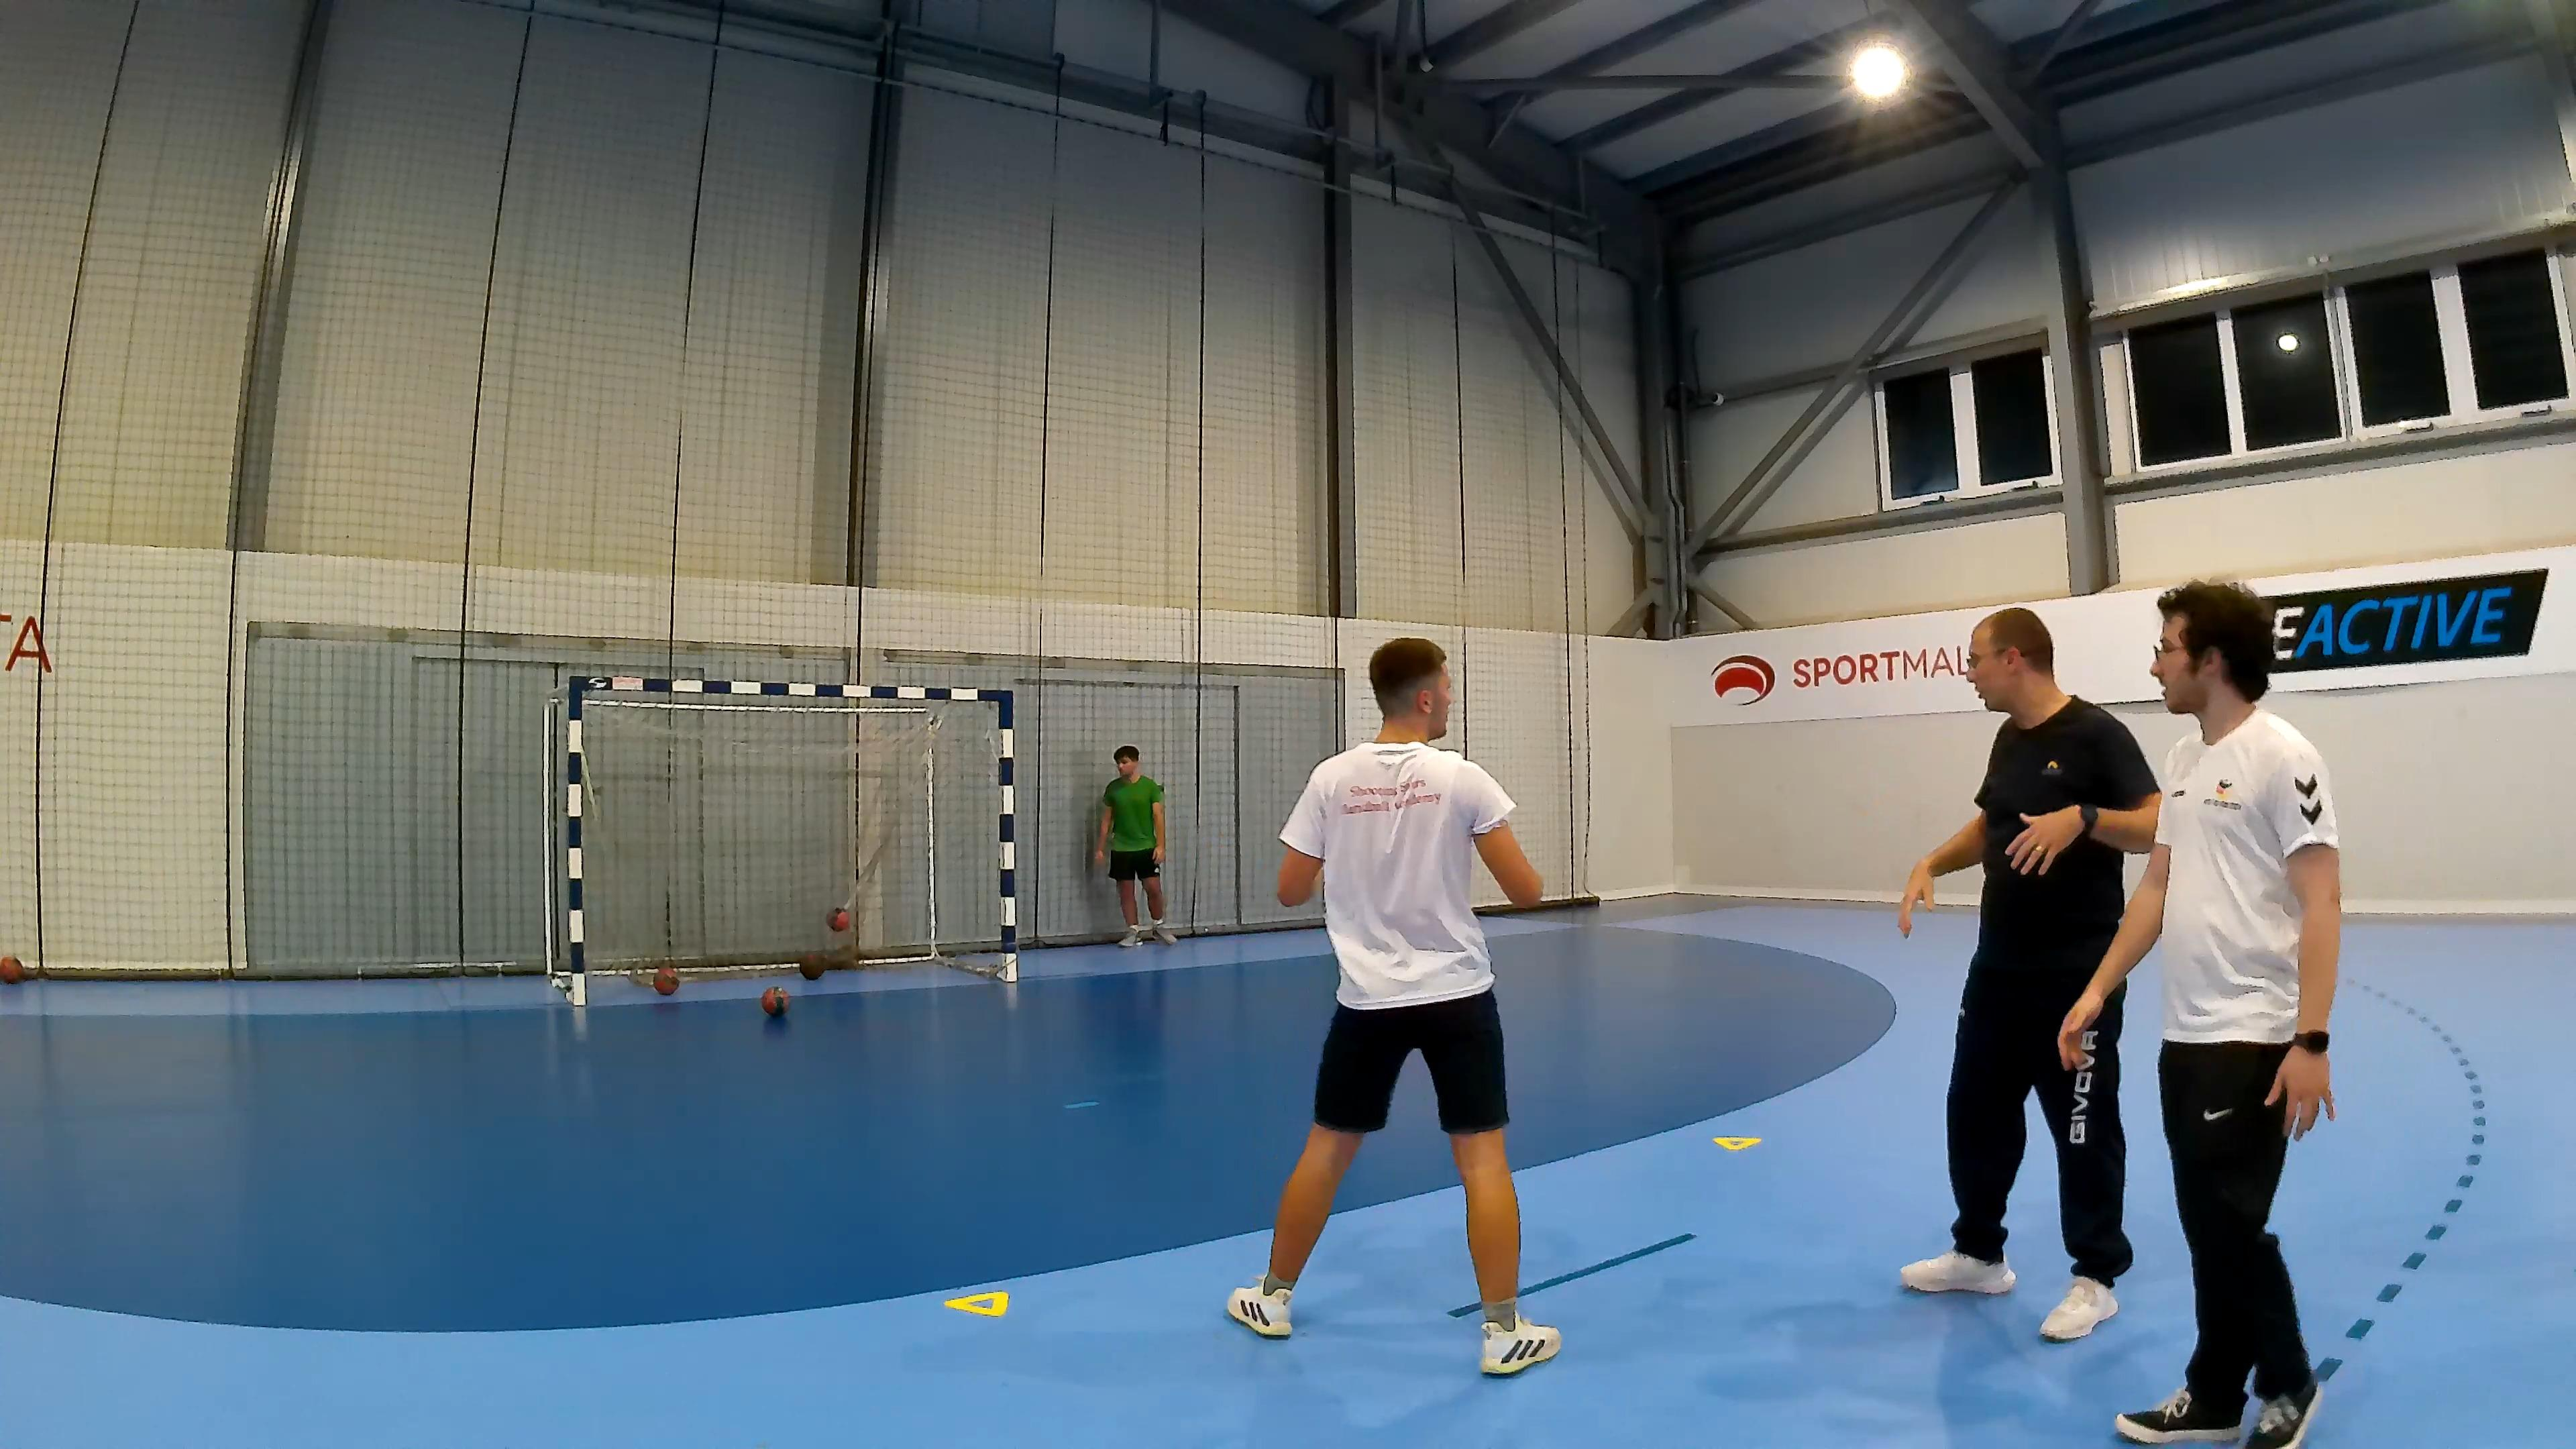handball: (824, 899, 853, 938), (759, 985, 789, 1016), (798, 950, 824, 980), (653, 966, 678, 994)
